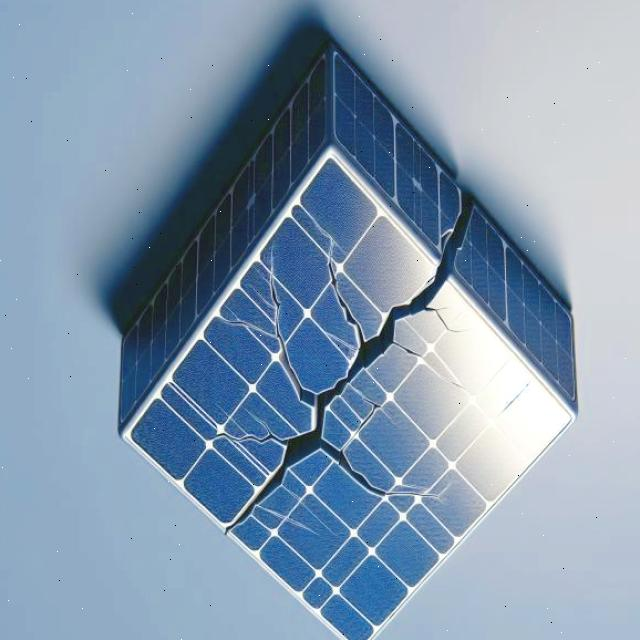Anomaly Solar Panel: (96, 152, 597, 640)
Structural Damage: (201, 211, 484, 554), (497, 381, 534, 420)
